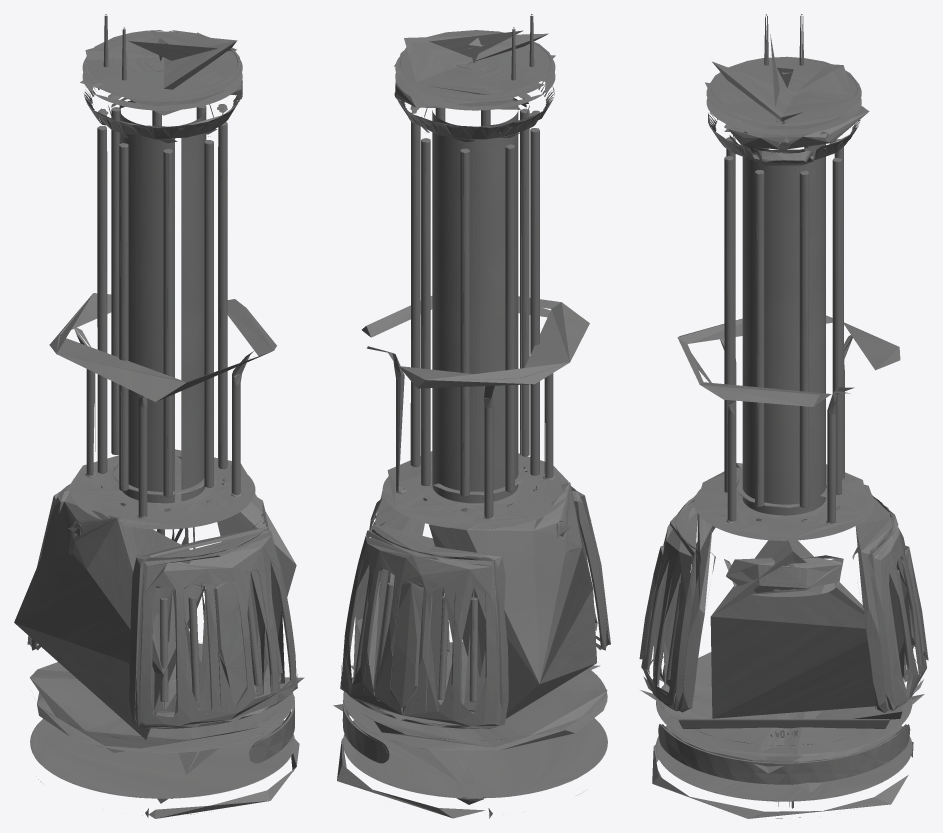
File: lamp_uvc_robot_a01.glb
3 renders of one model, left to right at view 1: azimuth 30°, elevation 25°; view 2: azimuth 150°, elevation 25°; view 3: azimuth 270°, elevation 25°, orthographic. The views are drawn at different scales.
Visible parts, largest first — view 1: geometry_0; view 2: geometry_0; view 3: geometry_0.
Boxes of the visible parts, left/top/right/bottom form: geometry_0: left=14, top=14, right=304, bottom=818; geometry_0: left=333, top=14, right=610, bottom=818; geometry_0: left=639, top=14, right=928, bottom=818.
Size of the model in its own units: 0.138 by 0.42 by 0.1432.
1 material, 1 textured.
